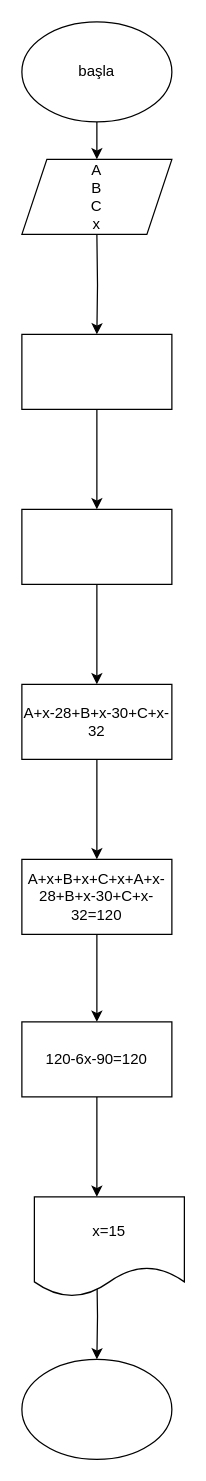
Some shapes in this 206 by 1481 pixel diagram are drawn without their labels. Each missing label, with the centre of its shape:
"A+B+C=60" goes at [96,371].
"A+x+B+x+C+x=60+3x" goes at [96,546].
"dur" goes at [96,1408].
